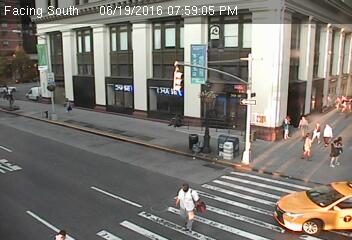neg: (193, 108, 218, 141), (105, 105, 125, 132), (151, 103, 169, 127), (37, 107, 52, 127)
pos: (164, 181, 205, 236), (298, 132, 320, 161), (277, 112, 298, 141)
